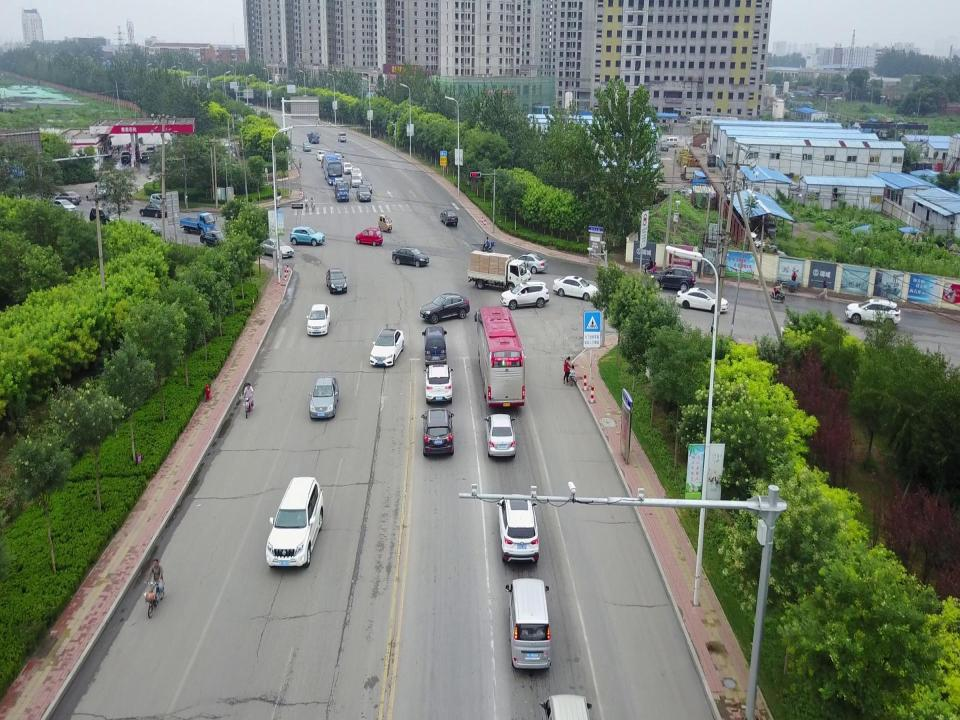bus: (476, 305, 526, 408), (322, 153, 346, 183)
car: (267, 478, 324, 567), (499, 496, 540, 564), (420, 293, 468, 326), (422, 406, 452, 457), (486, 411, 516, 461), (646, 266, 696, 293), (676, 286, 728, 311), (501, 283, 550, 309), (370, 329, 404, 366), (844, 301, 900, 323), (311, 378, 340, 418), (424, 366, 453, 406), (554, 276, 599, 300), (423, 325, 446, 363), (308, 303, 332, 337), (391, 245, 428, 267), (260, 238, 296, 257), (292, 224, 324, 244), (324, 267, 347, 294), (90, 206, 120, 225), (355, 226, 383, 245), (520, 253, 548, 271), (52, 199, 78, 216), (199, 228, 226, 244), (440, 207, 460, 228), (138, 218, 164, 234), (139, 201, 164, 215), (92, 178, 108, 198), (62, 190, 82, 203), (156, 141, 174, 153), (348, 168, 360, 184), (356, 186, 372, 197), (221, 143, 233, 157), (336, 130, 348, 142), (360, 177, 370, 191), (121, 149, 131, 163), (244, 101, 255, 113), (145, 145, 156, 156), (317, 149, 327, 161), (141, 150, 151, 161), (301, 143, 312, 152), (343, 162, 352, 171)
truck: (467, 250, 528, 290), (178, 213, 218, 234), (334, 178, 350, 202), (306, 129, 320, 145)
van: (508, 579, 550, 673)
